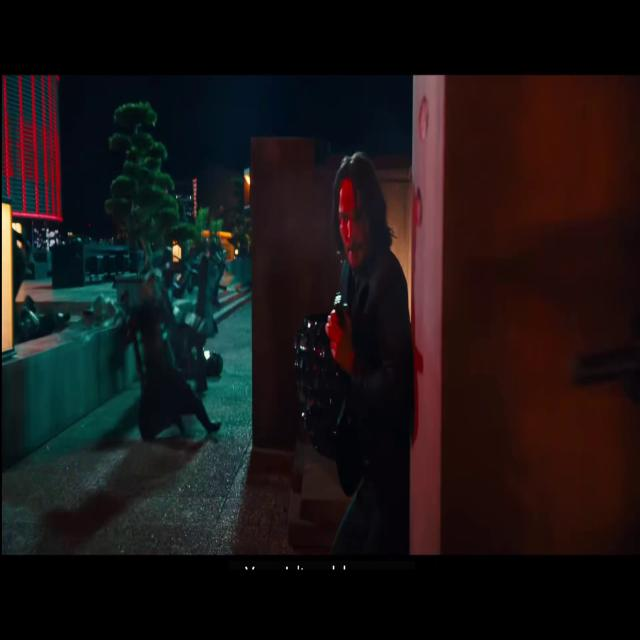weapons: (324, 277, 355, 379)
